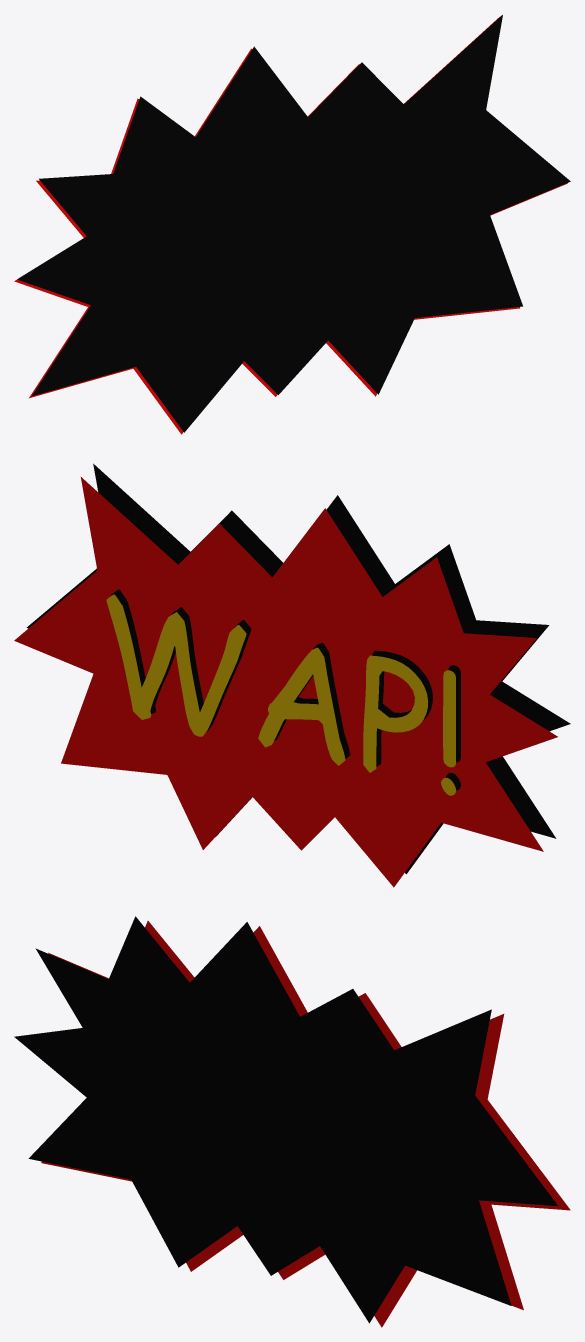
The model's file is Hit2.fbx.
3 renders of one model, top to bottom at view 1: azimuth 30°, elevation 25°; view 2: azimuth 150°, elevation 25°; view 3: azimuth 330°, elevation 25°, orthographic.
Parts seen in each view (by area): view 1: hit2; view 2: hit2; view 3: hit2.
Boxes of the visible parts, <box> form: hit2: <box>14,15,570,434</box>; hit2: <box>14,463,570,887</box>; hit2: <box>14,916,570,1327</box>.
Size of the model in its own units: 108 by 71.6 by 4.09.
1 material, 1 textured.
